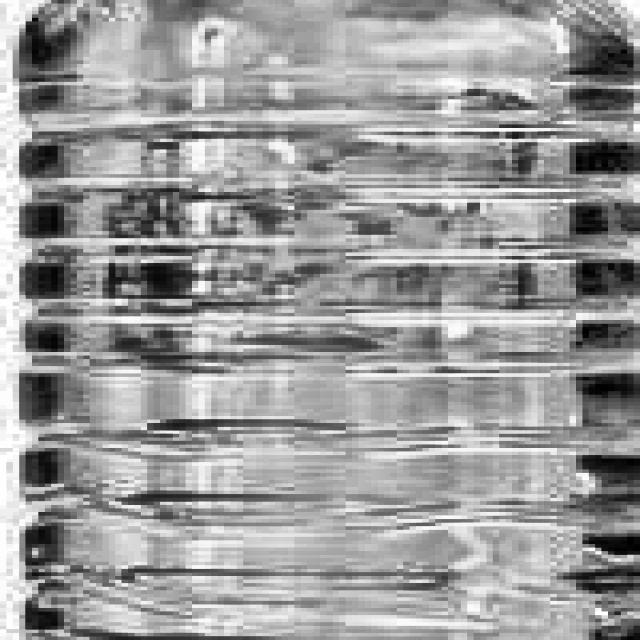bottle: (13, 0, 640, 640)
